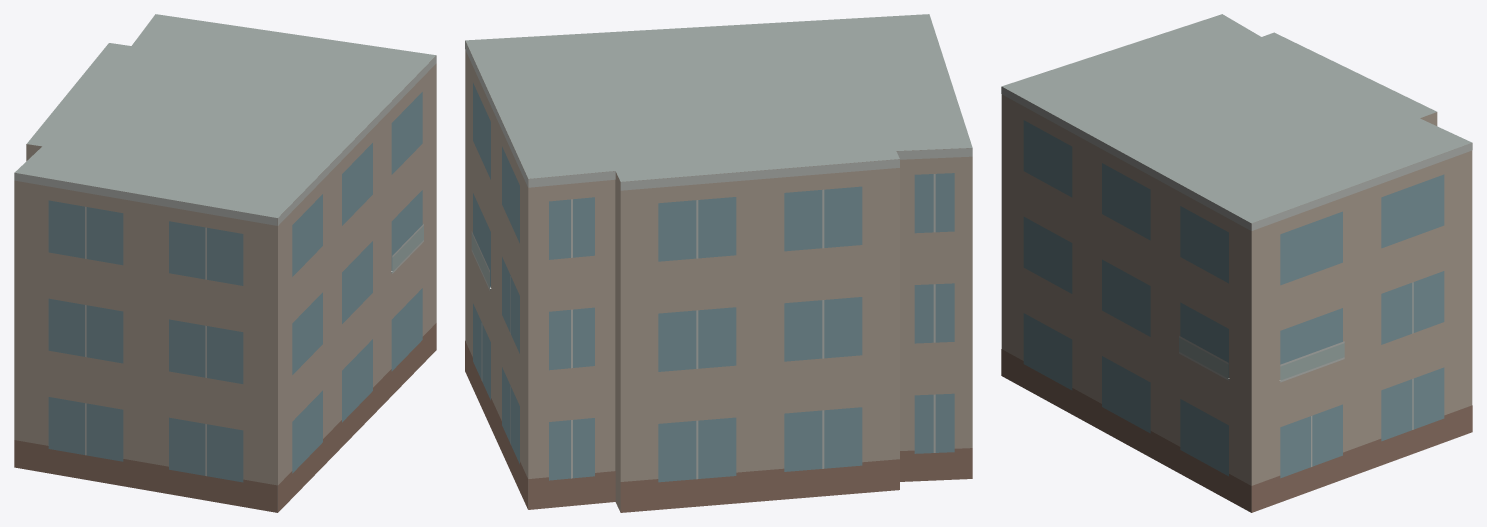
Rendered from survey-upis-32913685.glb.
3 views of the same model, side by side, from view 1: azimuth 30°, elevation 25°; view 2: azimuth 150°, elevation 25°; view 3: azimuth 270°, elevation 25° (orthographic). The views are drawn at different scales.
Parts seen in each view (by area): view 1: survey-upis-32913685.tmp; view 2: survey-upis-32913685.tmp; view 3: survey-upis-32913685.tmp.
Boxes of the visible parts, bbox=[...] form: survey-upis-32913685.tmp: bbox=[14, 14, 436, 512]; survey-upis-32913685.tmp: bbox=[465, 14, 972, 512]; survey-upis-32913685.tmp: bbox=[1001, 14, 1472, 512].
Bounding box in the file's own units: 14.21 × 9.15 × 13.5.
